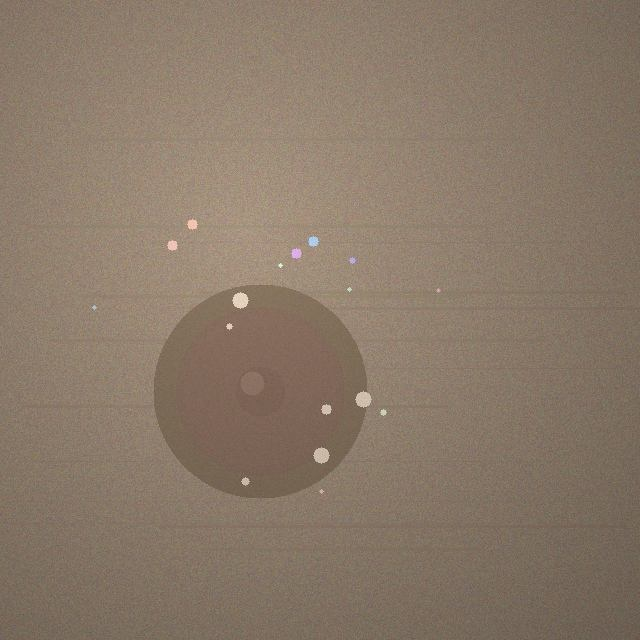overburn: (153, 284, 367, 498)
